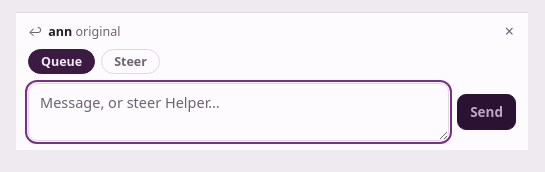
a steer carries no reply: the quote is hidden and kept for the next post
This screenshot has width=545, height=172.
Check: the text "ann" is shown, box [48,22,72,40]
Click the button "Steer".
click(131, 62)  # box [101,49,160,74]
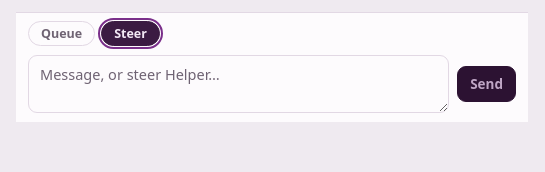
Check: the text "ann" is gone
Type "focus" into the text box labelled "Message".
click(239, 84); type("focus")  # box [28,55,449,113]
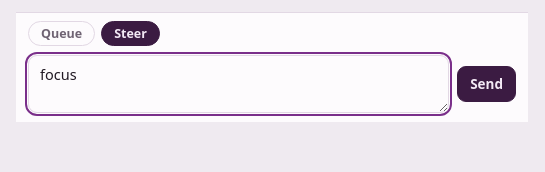
Click the button "Send".
click(487, 84)  # box [457,66,516,102]
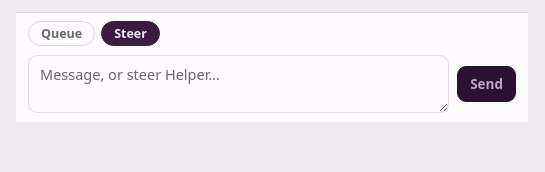
Check: the text box labelled "Message" is empty, box [28,55,449,113]
Click the button "Queue".
click(62, 34)  # box [28,21,95,46]
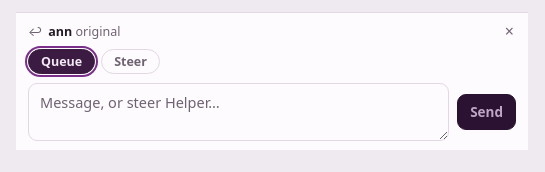
Check: the text "ann" is shown, box [48,22,72,40]
